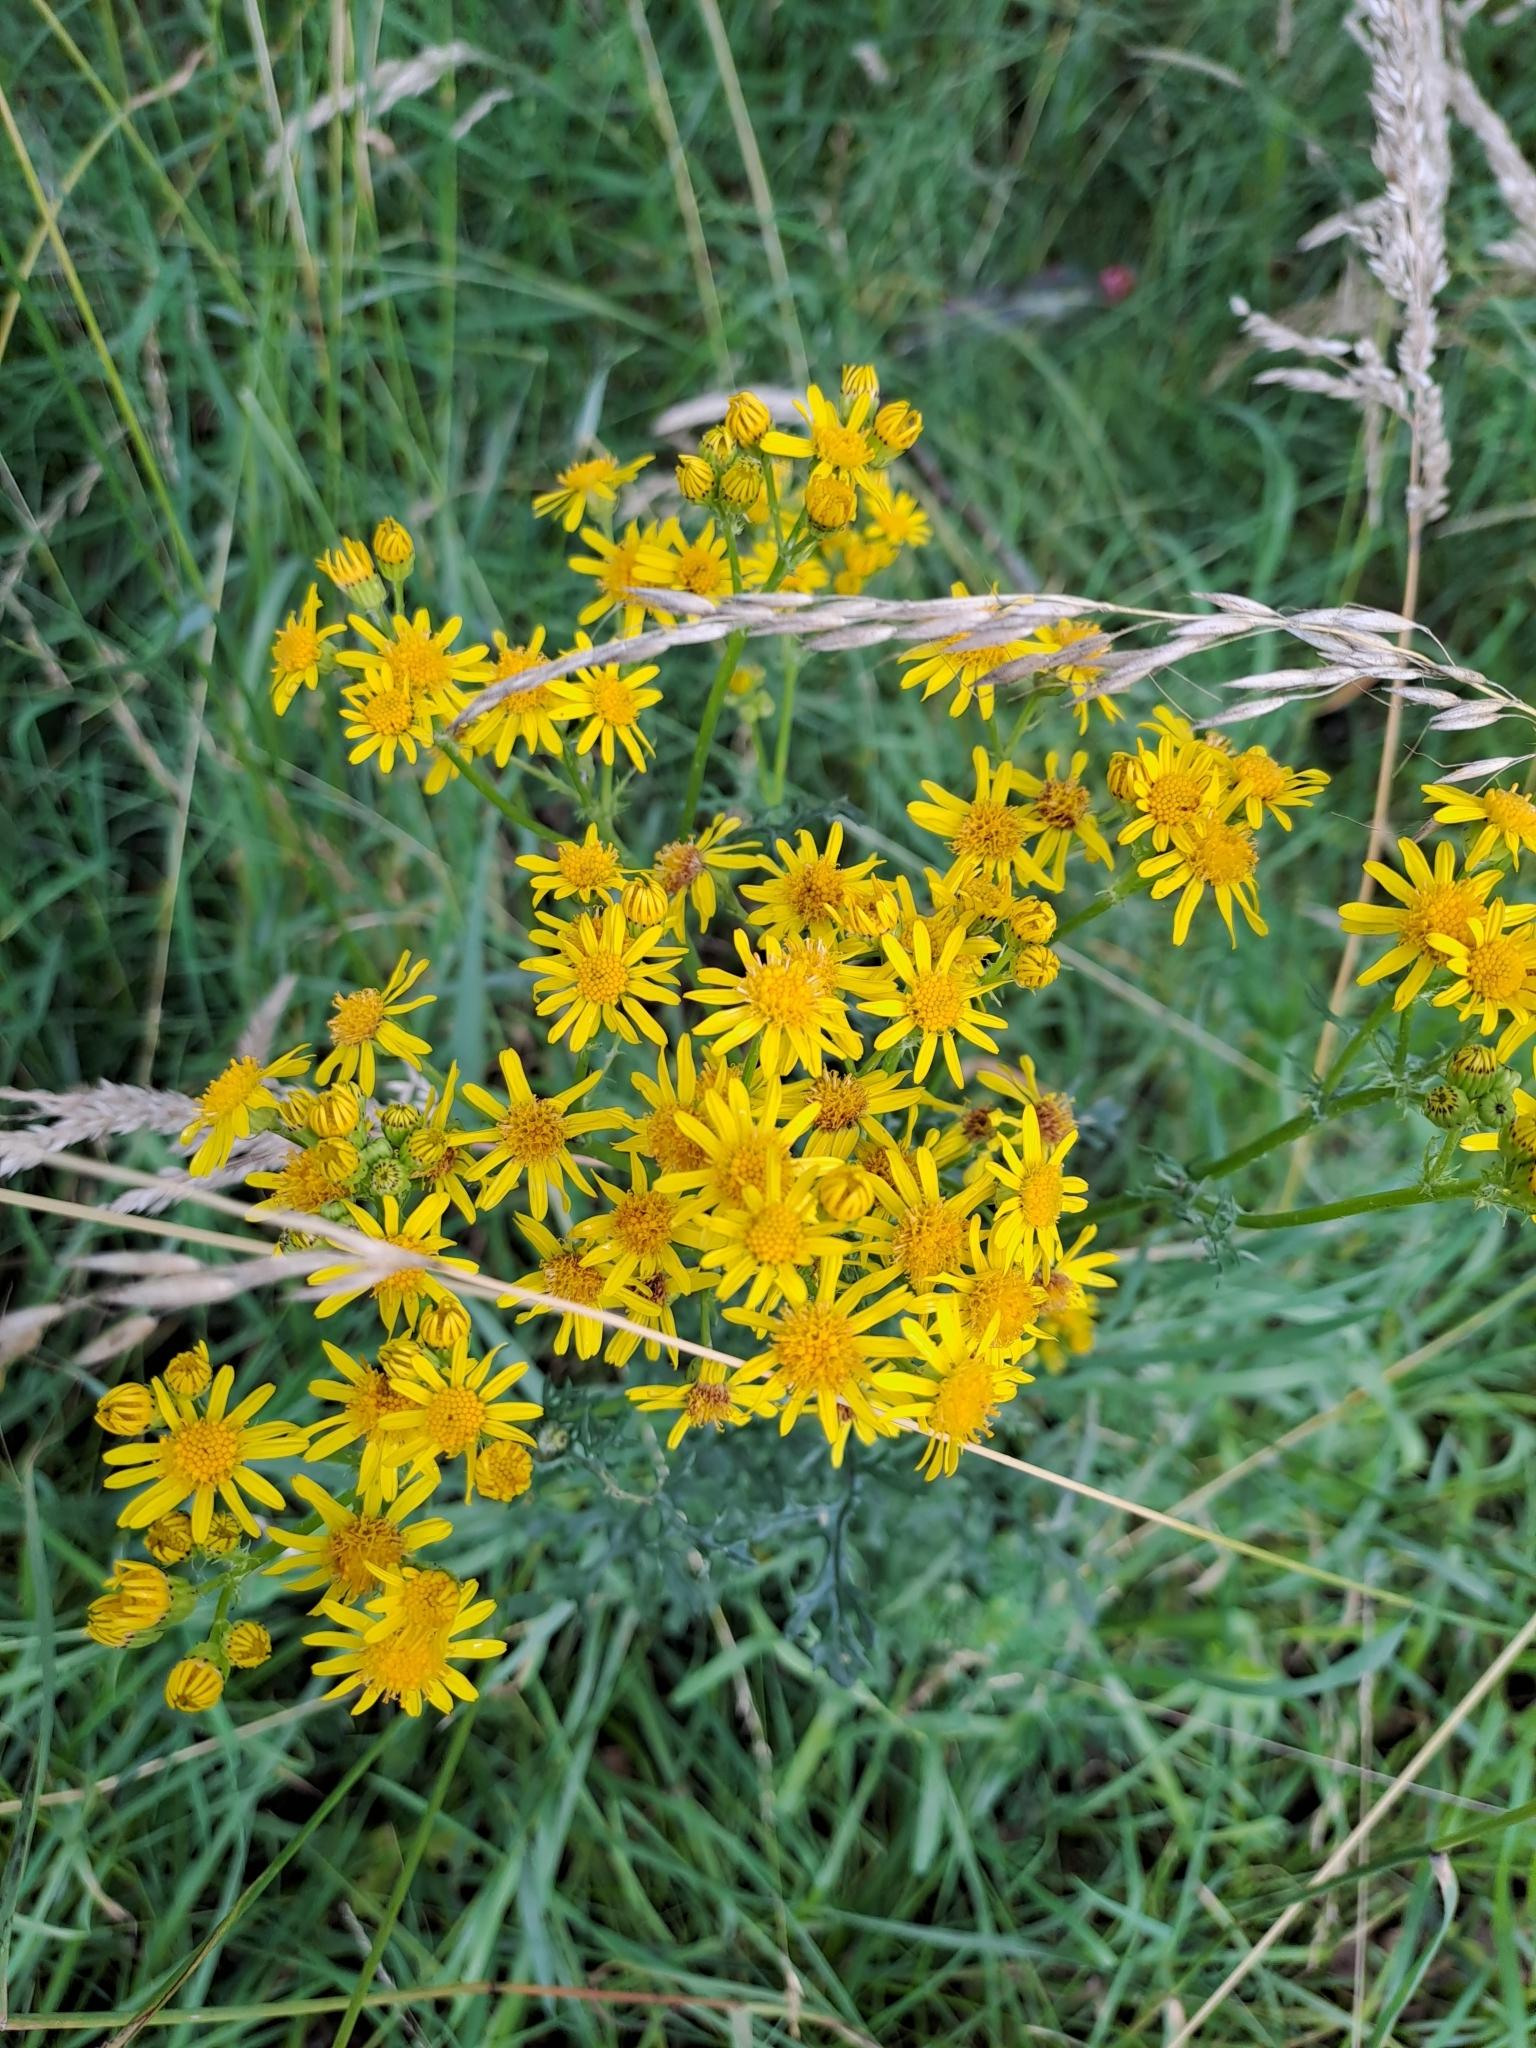Jacobaea vulgaris: (3, 324, 1536, 1813)
